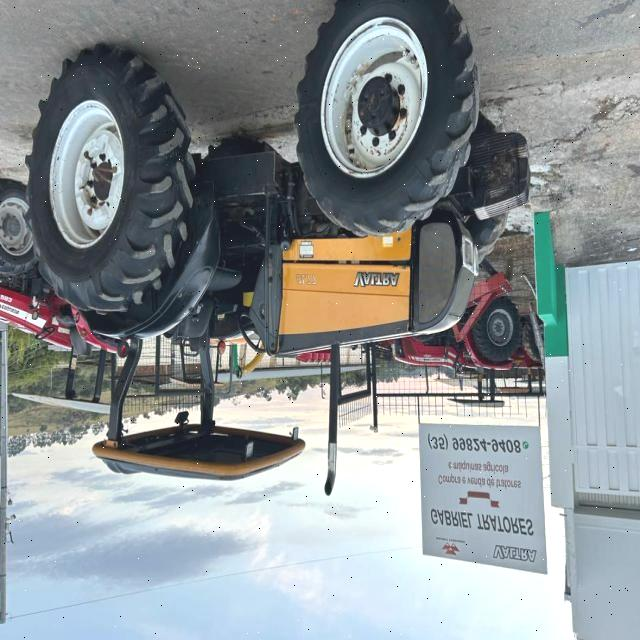Tratores - v5 YOLO V8L 2024-11-13: (32, 0, 534, 483), (0, 180, 106, 412), (388, 297, 520, 410)
